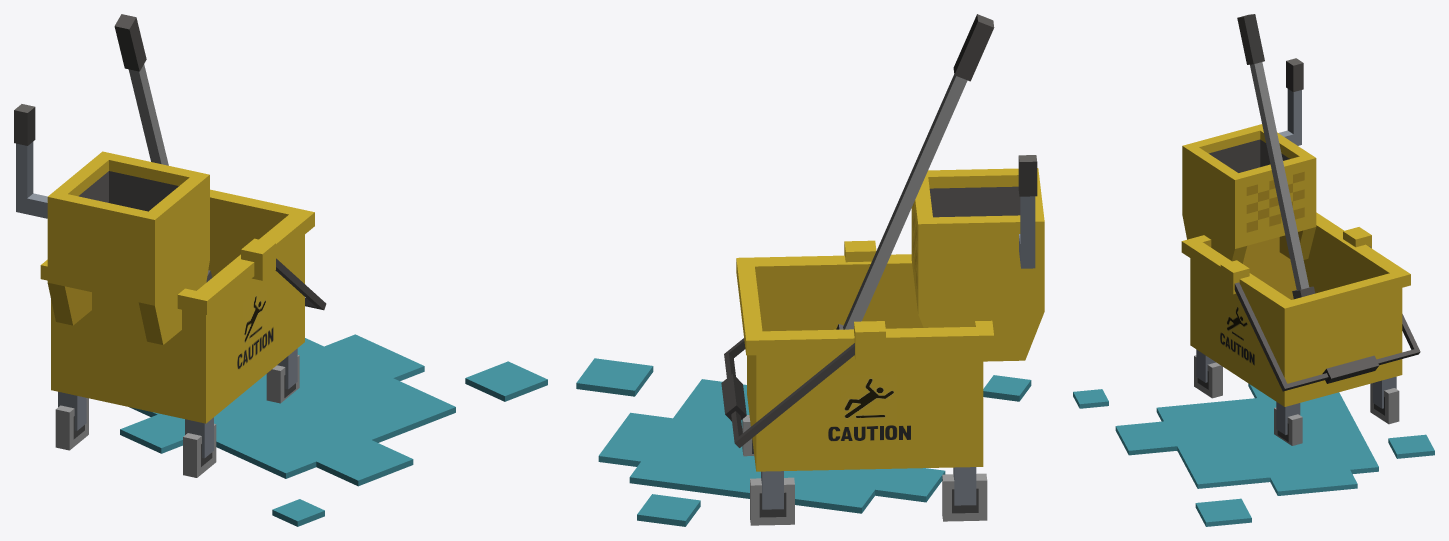
File: 打扫污渍02.fbx
3 renders of one model, left to right at view 1: azimuth 30°, elevation 25°; view 2: azimuth 150°, elevation 25°; view 3: azimuth 270°, elevation 25°, orthographic. The views are drawn at different scales.
Parts seen in each view (by area): view 1: Object24320; view 2: Object24320; view 3: Object24320.
Part boxes in pixels (<box>): Object24320: <box>14,14,547,526</box>; Object24320: <box>576,14,1044,526</box>; Object24320: <box>1073,14,1434,526</box>.
Size of the model in its own units: 208 by 186 by 170.
